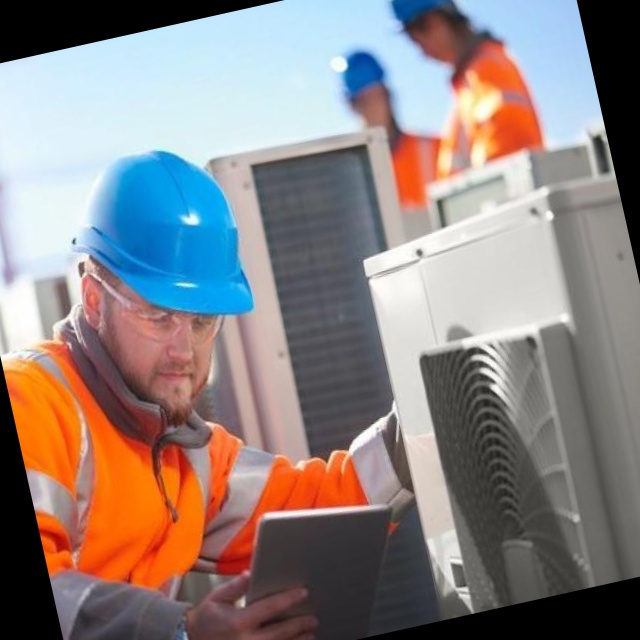goggles: (405, 271, 541, 310)
helmet: (357, 119, 557, 302), (112, 0, 184, 56)
vest: (317, 324, 640, 561), (70, 74, 154, 215)
